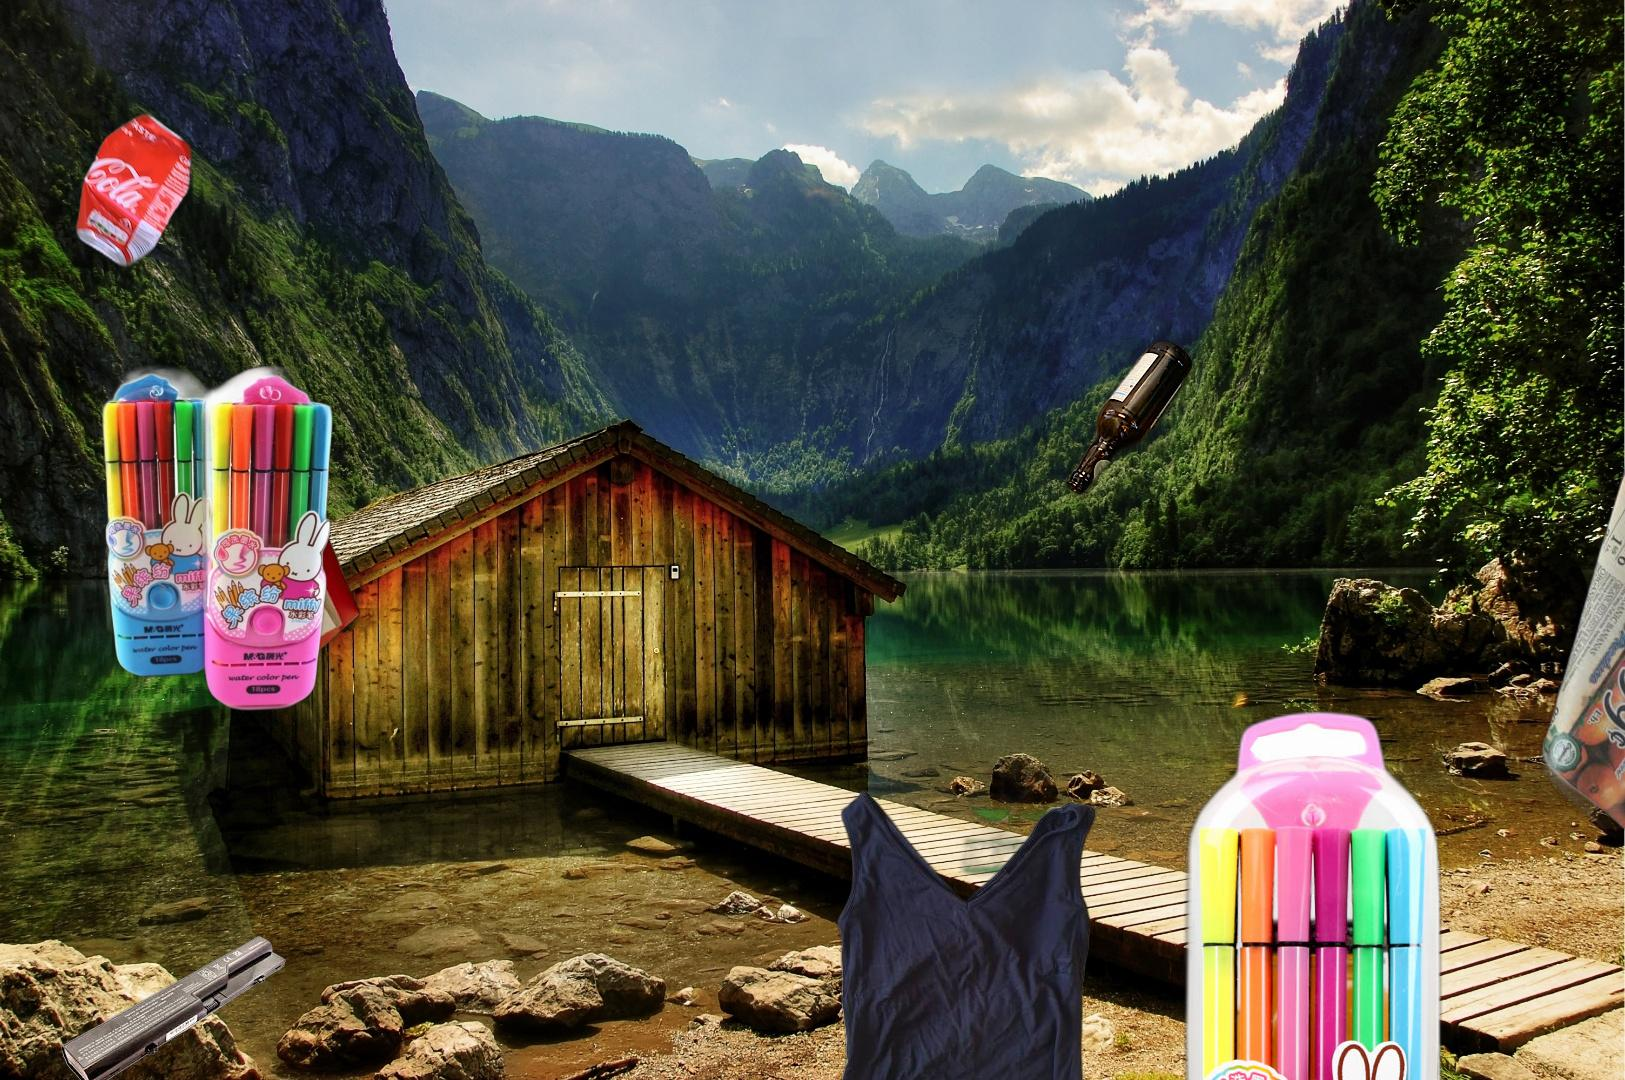battery: (61, 933, 286, 1080)
clothes: (825, 786, 1099, 1080)
glass: (1061, 335, 1197, 505)
metal-cans: (70, 107, 336, 699)
paper: (1530, 462, 1625, 846)
paper-bag: (163, 454, 363, 698)
penholder: (910, 697, 1448, 1080), (96, 360, 336, 714)
